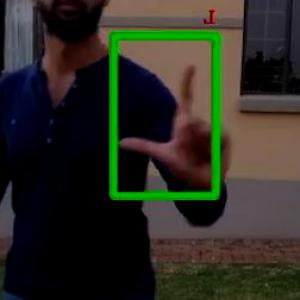land_hand: (112, 58, 240, 190)
